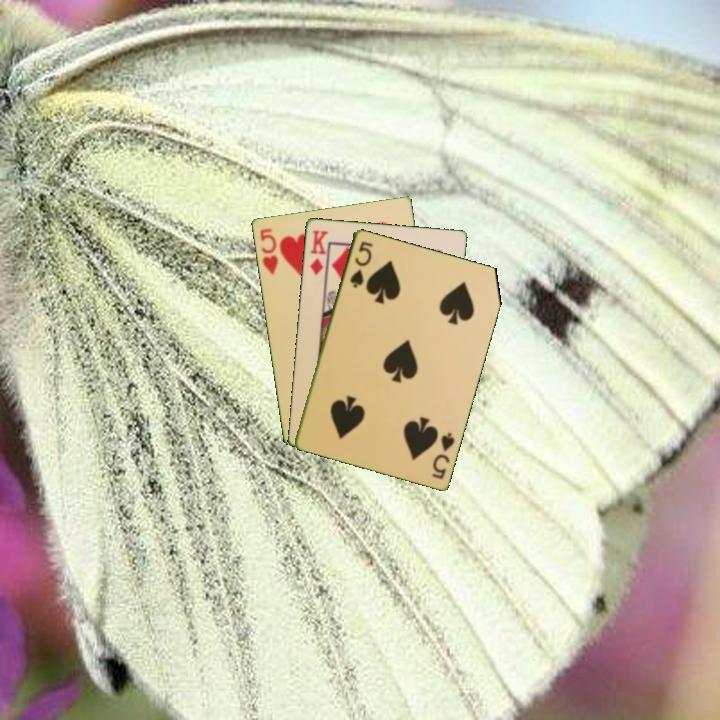5h: (256, 225, 281, 277)
5s: (428, 428, 457, 482), (346, 237, 375, 290)
Kd: (306, 226, 331, 278)
